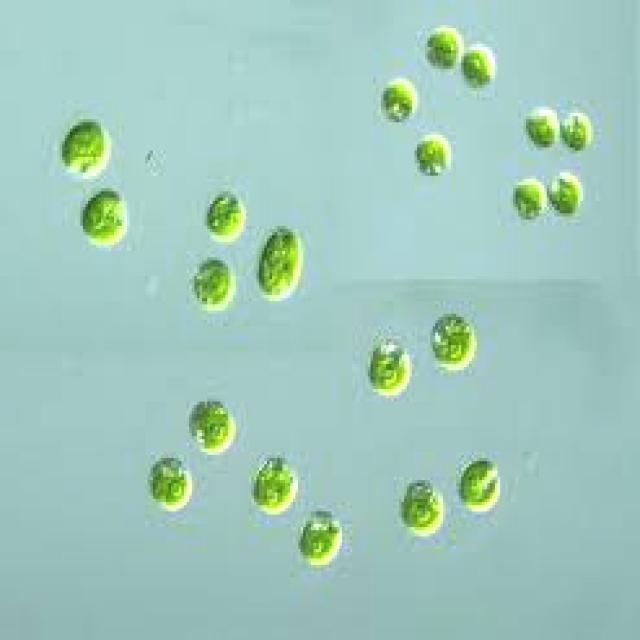Green Algae: (257, 226, 303, 304), (60, 119, 112, 179), (292, 508, 344, 568), (80, 188, 130, 245), (402, 477, 448, 536), (366, 339, 414, 395), (189, 395, 236, 452), (453, 458, 502, 511), (254, 455, 298, 514), (430, 314, 474, 370), (148, 452, 192, 508), (187, 258, 233, 308), (205, 191, 246, 245), (422, 22, 462, 72), (549, 163, 586, 217), (409, 135, 454, 179), (508, 175, 547, 222), (381, 76, 417, 126), (526, 100, 557, 154), (461, 41, 495, 88), (562, 106, 591, 148)
